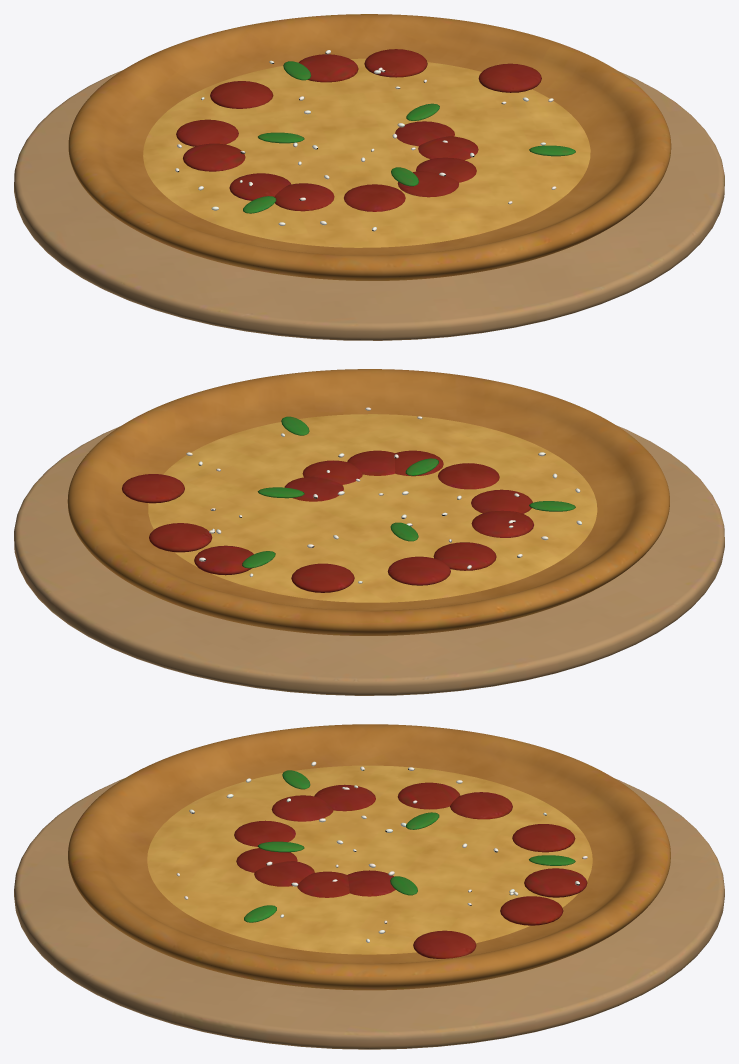
File: pizza.glb
The picture shows the model from 3 angles, top to bottom: view 1: azimuth 30°, elevation 25°; view 2: azimuth 150°, elevation 25°; view 3: azimuth 270°, elevation 25°; orthographic projection.
Parts seen in each view (by area): view 1: pizza; view 2: pizza; view 3: pizza.
Boxes of the visible parts, x1=… form: pizza: x1=14, y1=14, x2=724, y2=340; pizza: x1=14, y1=369, x2=724, y2=695; pizza: x1=14, y1=724, x2=724, y2=1049.
Bounding box in the file's own units: 0.2912 × 0.0253 × 0.2912.
Materials: 1 (1 with a texture image).
